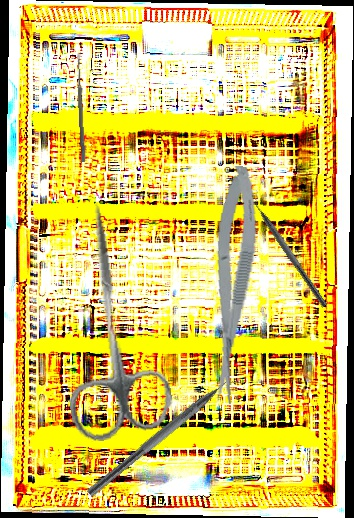Chopper: (85, 365, 250, 509), (245, 189, 335, 308)
Iris Scissors: (42, 195, 177, 445)
Micro Scissor: (199, 164, 265, 406)
Surgical Spoon: (75, 52, 87, 163)
